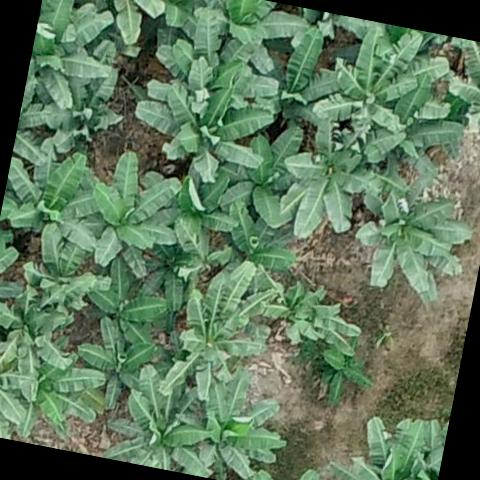Banana-plant: (123, 44, 281, 190), (56, 142, 198, 282), (344, 168, 480, 314), (157, 264, 283, 417), (269, 108, 389, 253), (0, 252, 101, 412), (0, 135, 121, 260), (312, 25, 432, 147), (69, 246, 183, 373), (177, 361, 298, 480), (354, 66, 471, 186), (21, 0, 134, 121), (98, 380, 230, 480), (213, 115, 317, 235), (0, 338, 113, 444), (252, 269, 373, 366), (317, 397, 449, 480), (18, 212, 116, 320), (183, 0, 316, 79), (64, 314, 163, 420), (36, 60, 130, 164), (169, 160, 254, 266), (0, 301, 56, 444), (213, 194, 305, 280), (126, 224, 204, 315), (308, 328, 387, 414), (439, 37, 480, 147)
